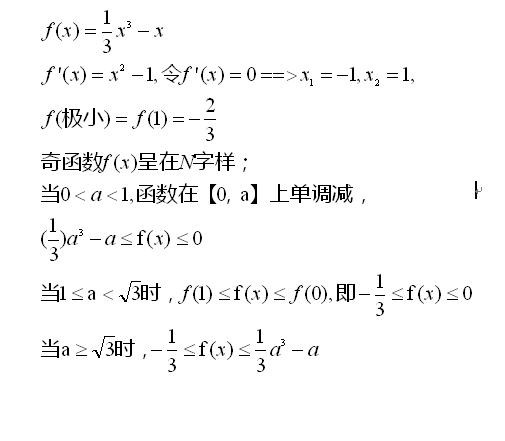cube: (124, 17, 135, 31), (75, 225, 83, 237), (280, 337, 286, 350)
division: (166, 347, 178, 355)
sqrt: (119, 278, 140, 306), (92, 334, 114, 359)
square: (119, 62, 130, 74)
